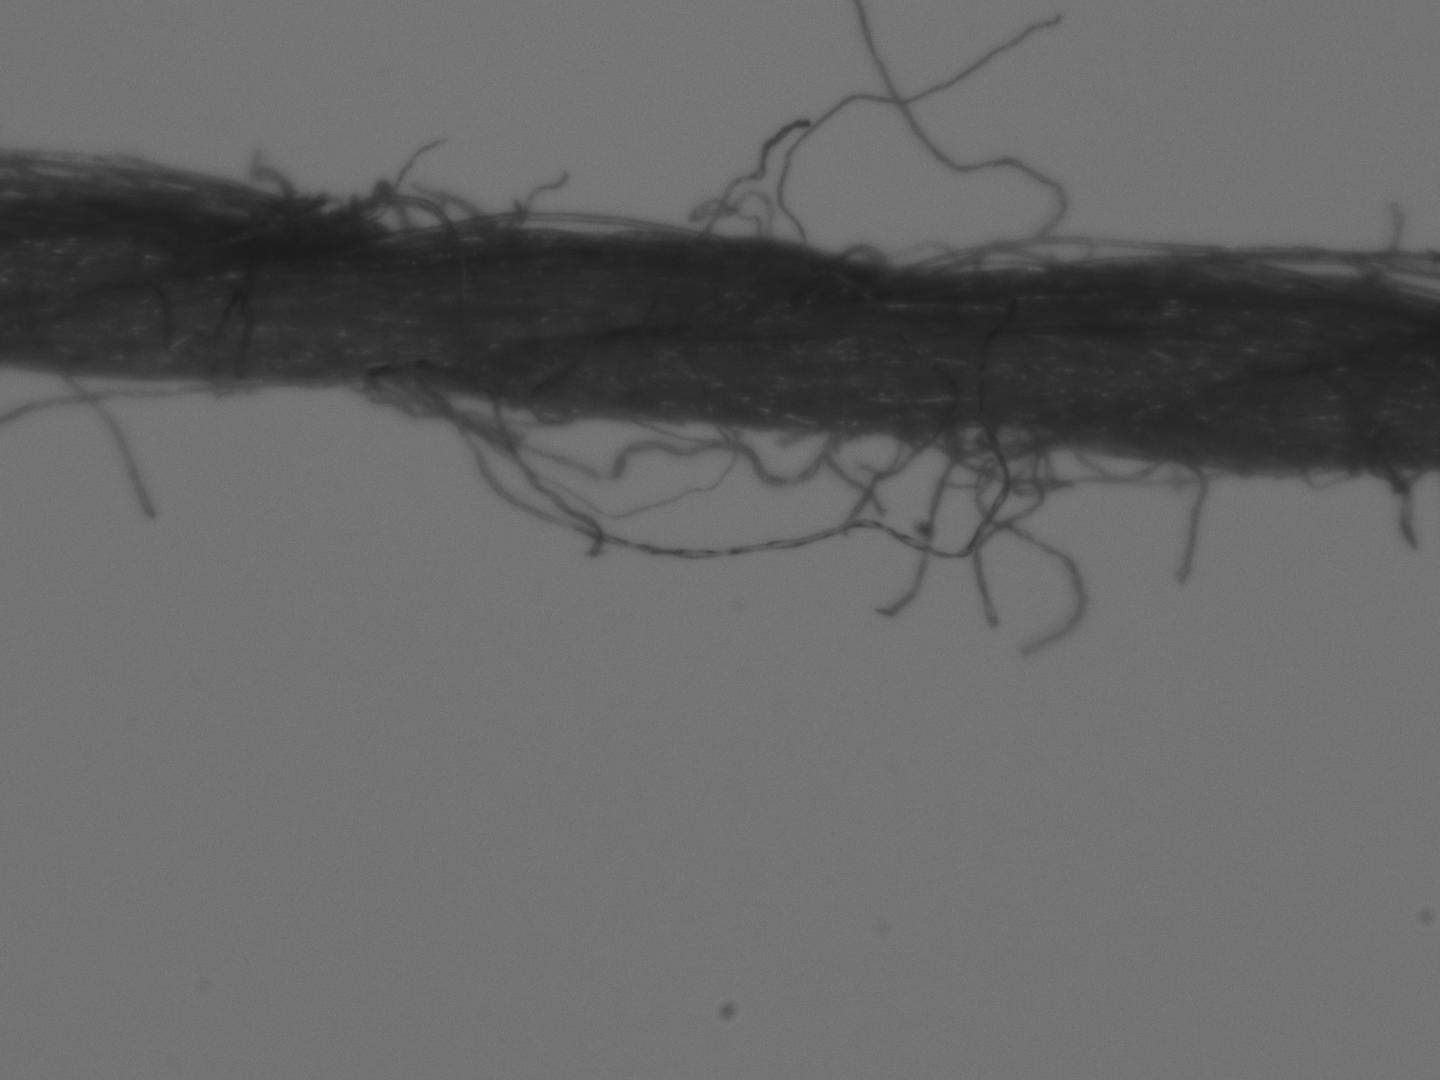loop_fiber: (344, 380, 1245, 566), (840, 225, 1439, 312), (0, 361, 255, 431), (281, 176, 483, 241), (1293, 464, 1439, 549), (485, 206, 731, 250), (684, 188, 774, 244)
protruding_fiber: (774, 8, 1064, 252), (852, 6, 1073, 277), (979, 429, 1087, 660), (1073, 430, 1210, 582), (872, 414, 959, 618), (62, 371, 160, 526), (691, 110, 806, 237), (361, 134, 449, 229), (972, 417, 1008, 636), (509, 161, 571, 229), (243, 141, 296, 203), (1361, 200, 1403, 271)
